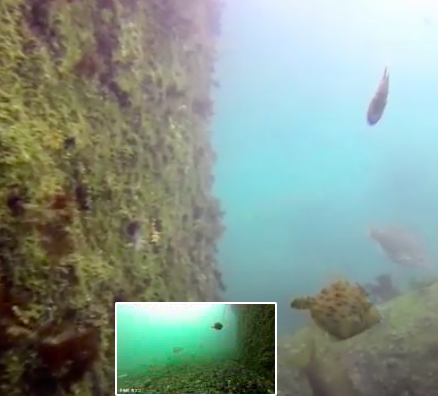kawahagi: (286, 272, 388, 347)
